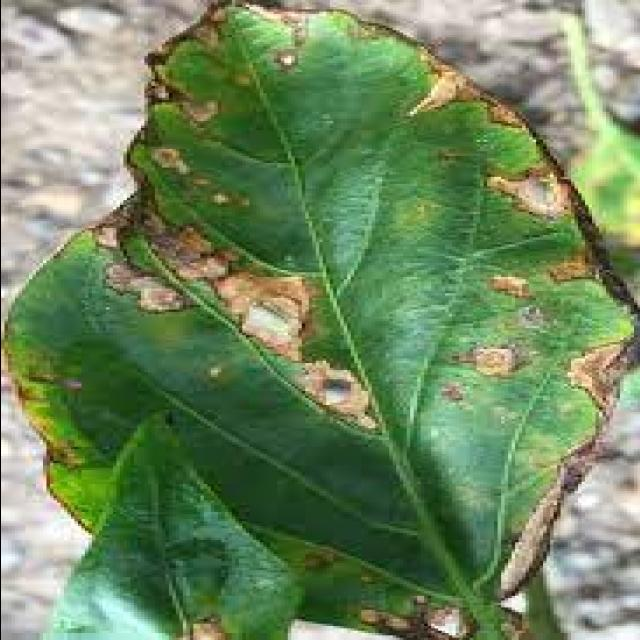bercak_daun: (130, 0, 640, 598)
